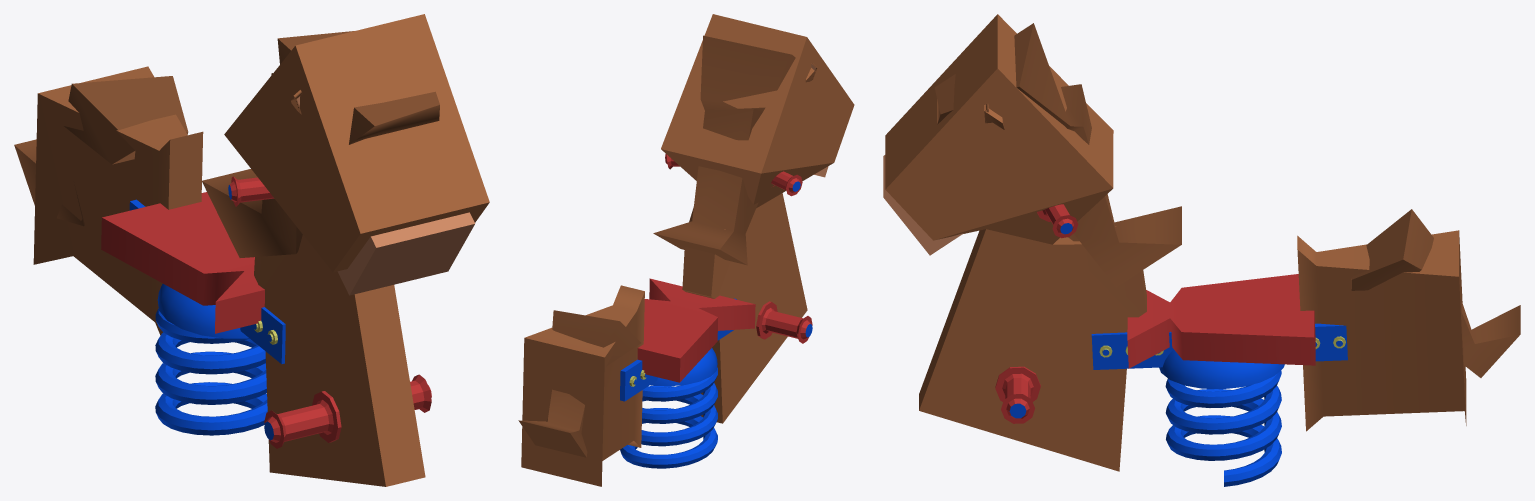
Rendered from horseRocker.fbx.
3 views of the same model, side by side, from view 1: azimuth 30°, elevation 25°; view 2: azimuth 150°, elevation 25°; view 3: azimuth 270°, elevation 25° (orthographic). The views are drawn at different scales.
Visible parts, largest first — view 1: polySurface1, polySurface2; view 2: polySurface1, polySurface2; view 3: polySurface1, polySurface2.
Part boxes in pixels (x1,y1,x2,y2): polySurface1: (14, 14, 489, 486); polySurface2: (155, 308, 267, 435); polySurface1: (518, 14, 854, 486); polySurface2: (620, 367, 717, 468); polySurface1: (883, 14, 1520, 471); polySurface2: (1165, 370, 1281, 486).
Size of the model in its own units: 0.5509 by 1.43 by 1.93.
